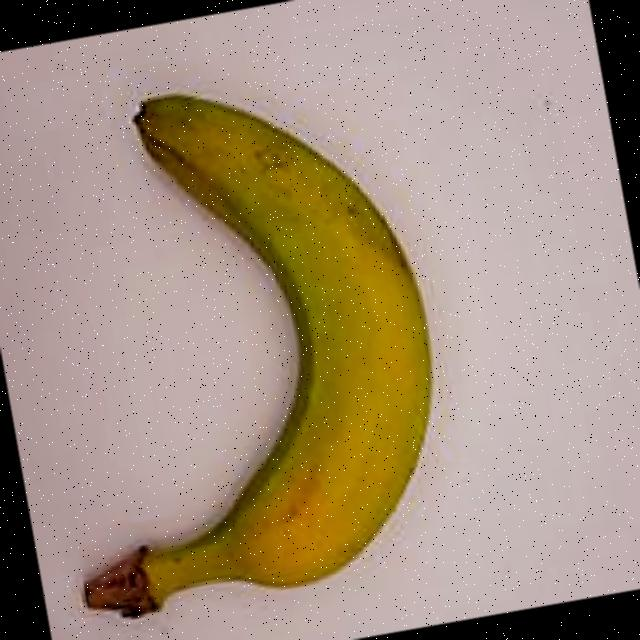Unripe: (0, 35, 483, 640)
